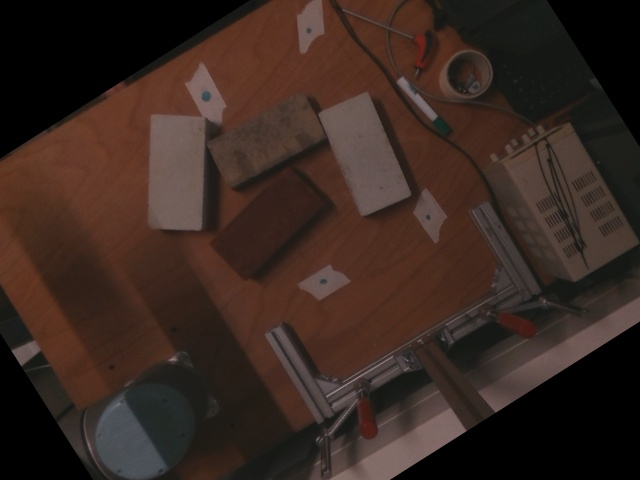brick: (208, 164, 323, 279), (318, 92, 413, 215), (210, 90, 327, 186), (148, 116, 204, 229)
